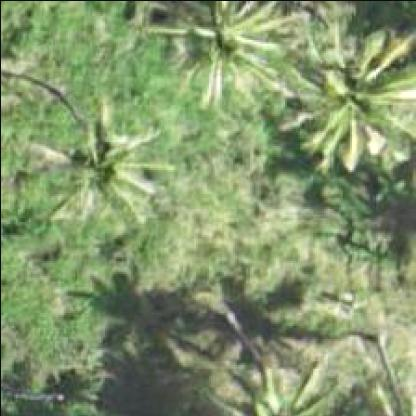coconut tree: (141, 1, 415, 178), (22, 94, 178, 228)
